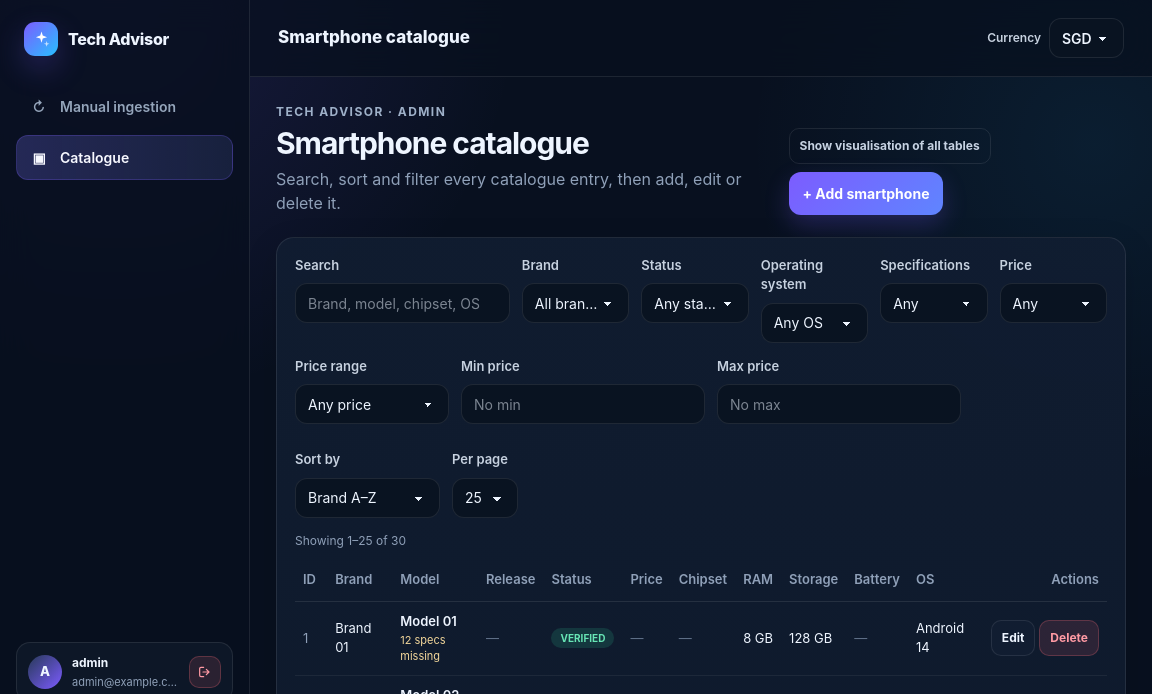
AdminCatalogue › keeps the form open with the server's message when a save fails
expect the text "Showing 1–25 of 30" is shown: met, box [295,532,406,548]
Click the button with aria-label "Edit Brand 01 Model 01" at [1013, 638], box [991,620,1035,656]
(page scrolled)
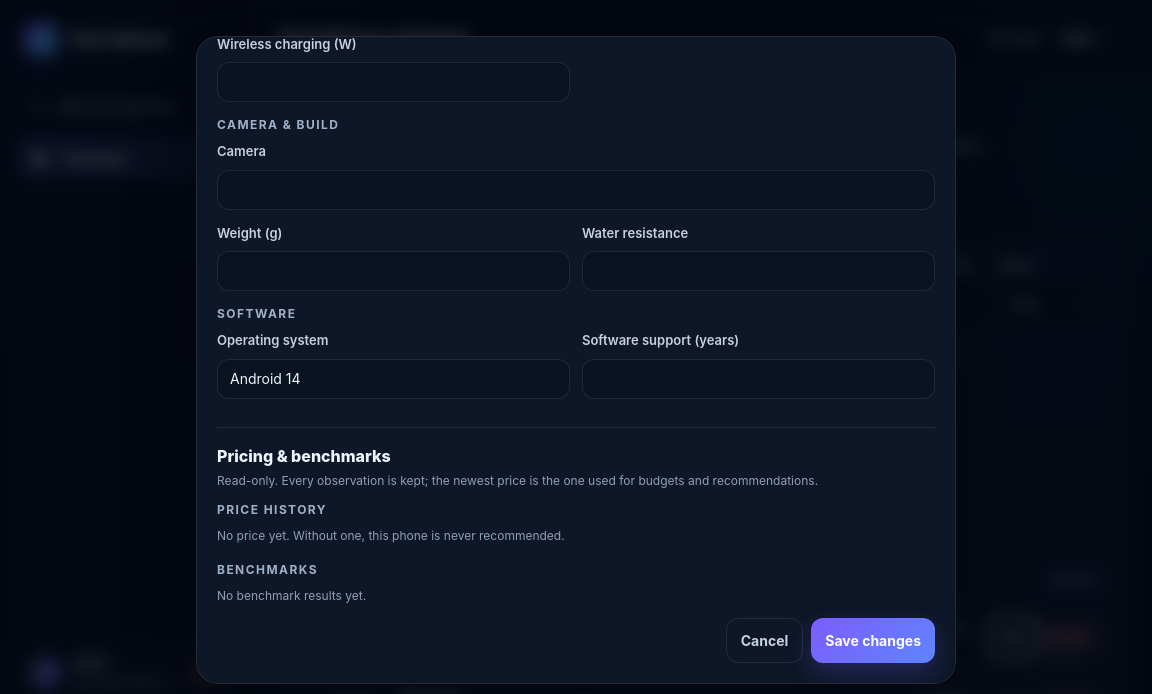
Click the button "Save changes" at [873, 641], box [811,618,935,663]
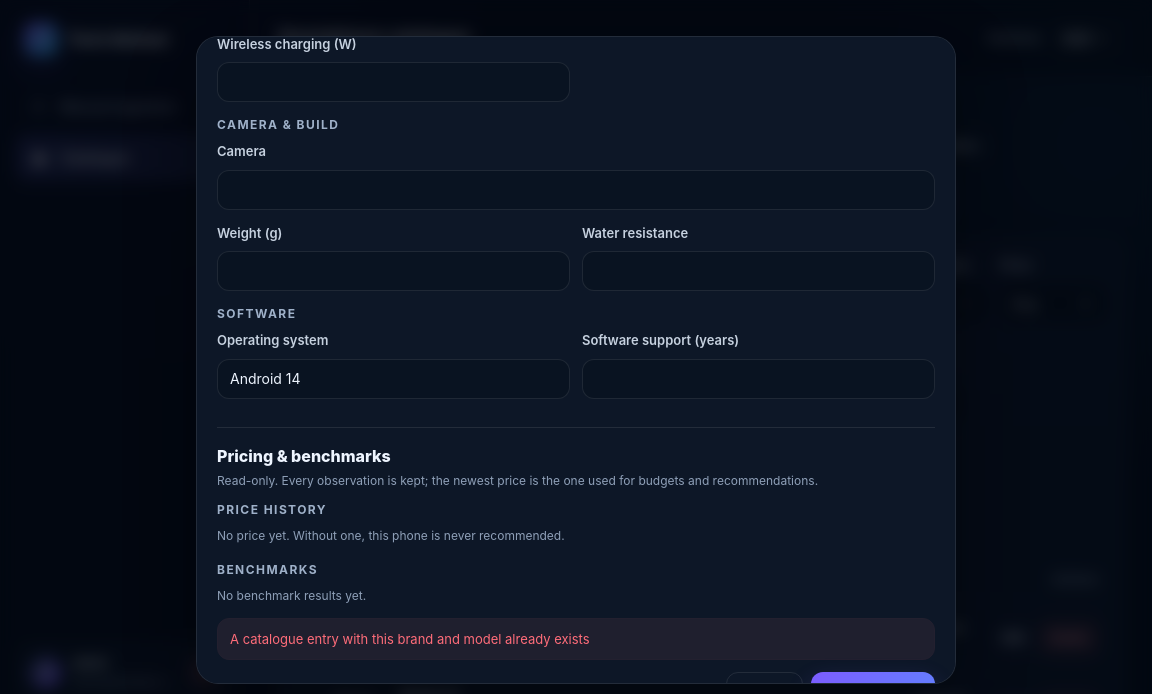
expect the message shows "already exists": met, box [230,631,590,647]
